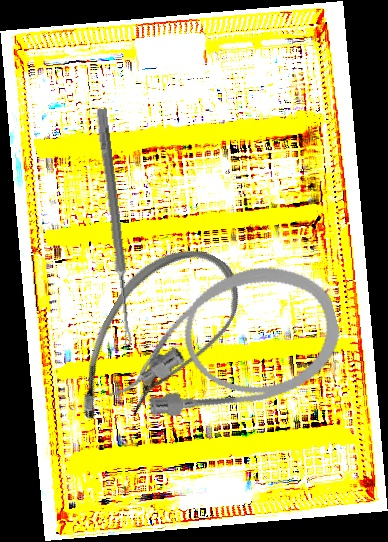Cannula: (87, 251, 352, 439), (58, 225, 256, 456)
Surgical Spoon: (94, 108, 136, 346)
